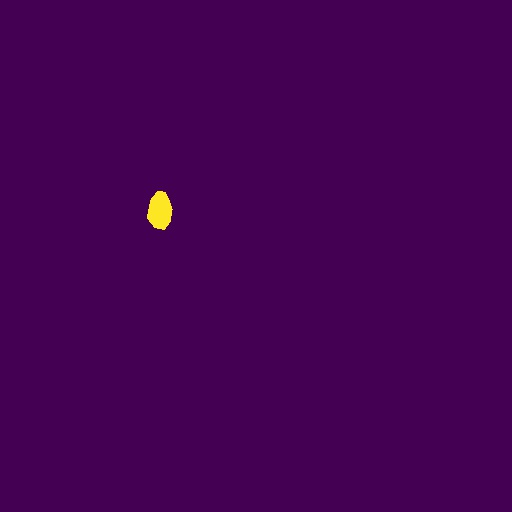Gliomia_tumour: (147, 191, 173, 230)
